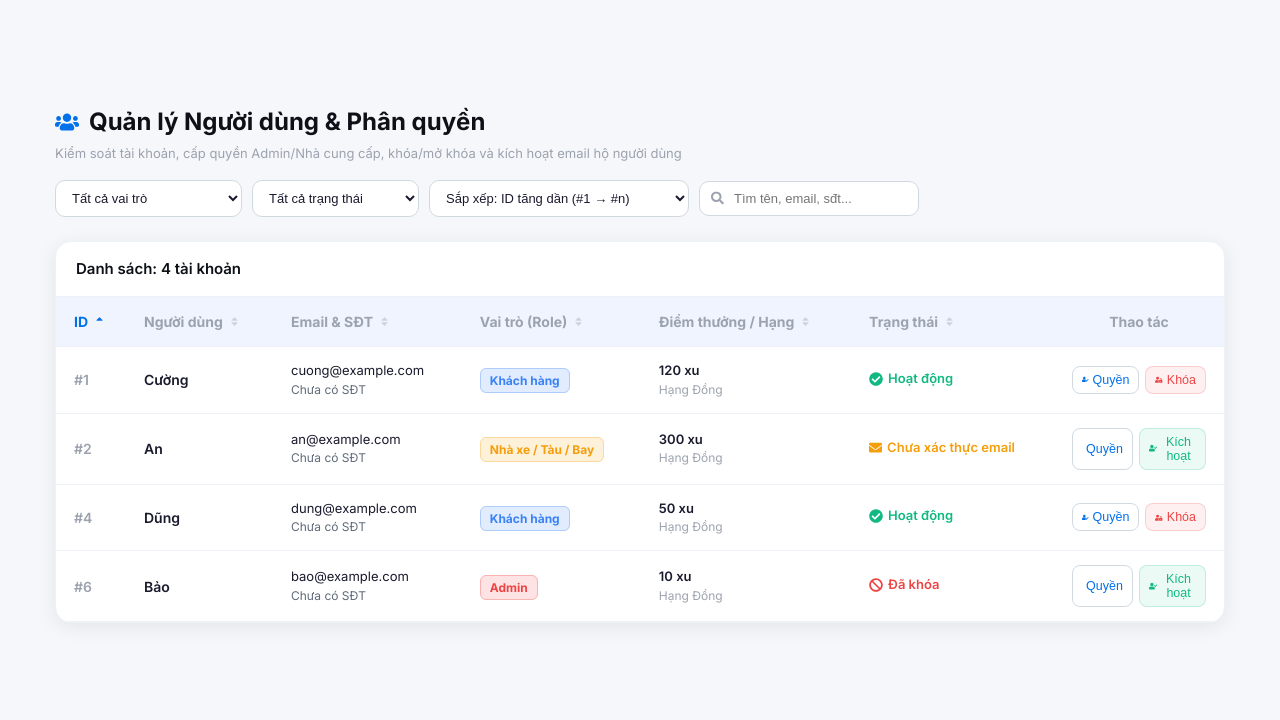
Test: AdminUsers - sắp xếp danh sách › ô chọn luôn khớp với cột đang xếp, kể cả khi bấm tiêu đề cột
Check: the text "#4" is shown, box [56,484,126,550]
What coordinates should you click on to do the following:
click the column heading titled "Sắp xếp theo Email & SĐT"
I would click on:
 (367, 322)
Its box is [273,297,462,346].
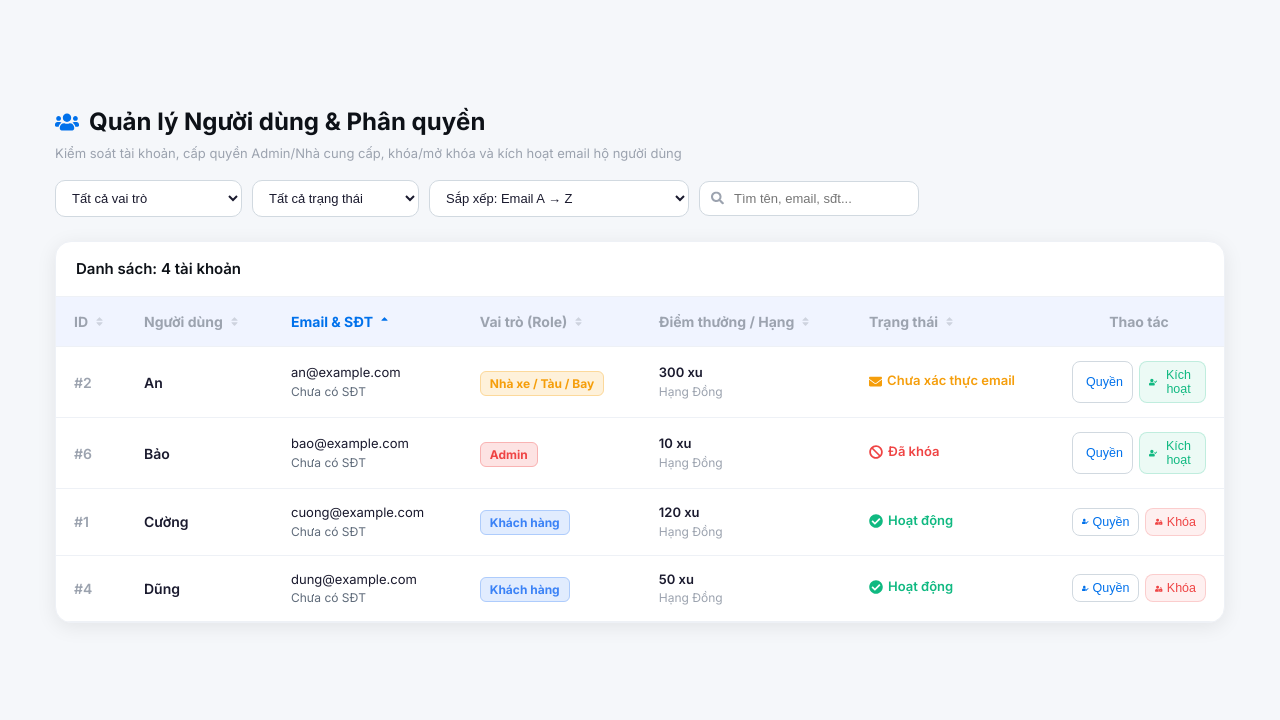
What coordinates should you click on to do the following:
click the column heading titled "Sắp xếp theo Email & SĐT"
I would click on:
 (367, 322)
Its box is [273,297,462,346].
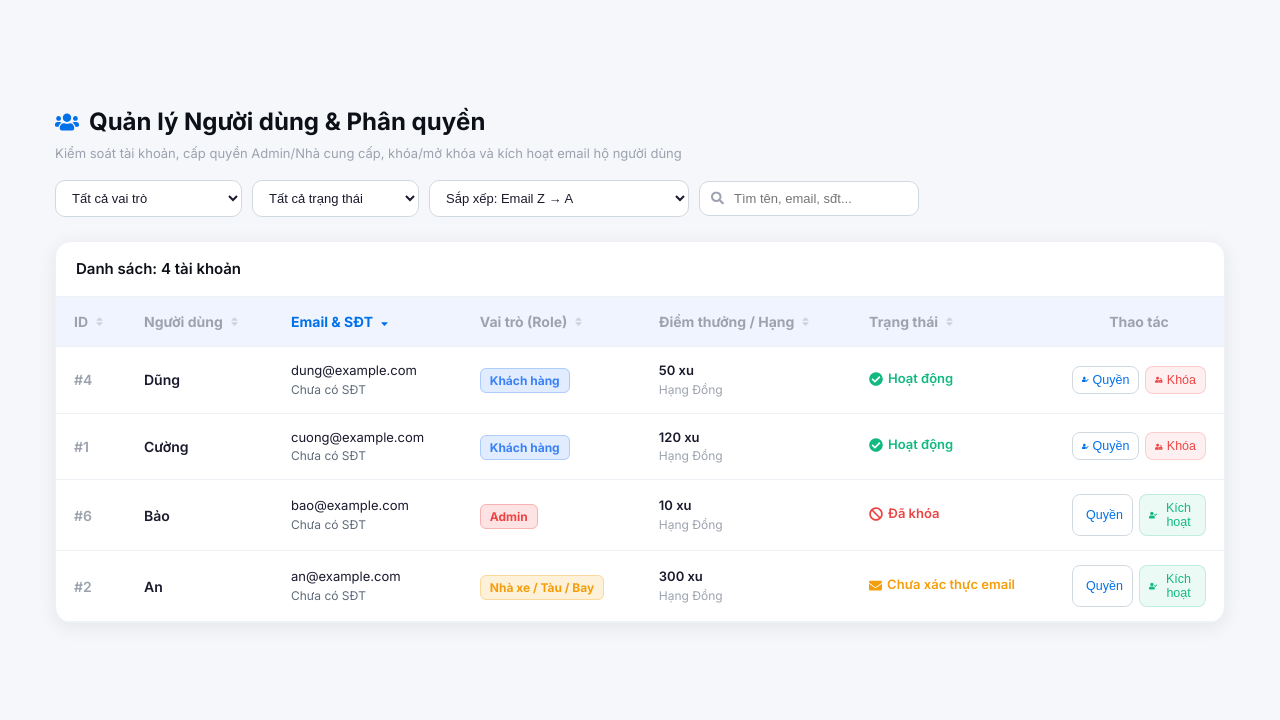
Check: the dropdown titled "Sắp xếp danh sách" shows "Sắp xếp: Email Z → A", box [429,180,689,216]
